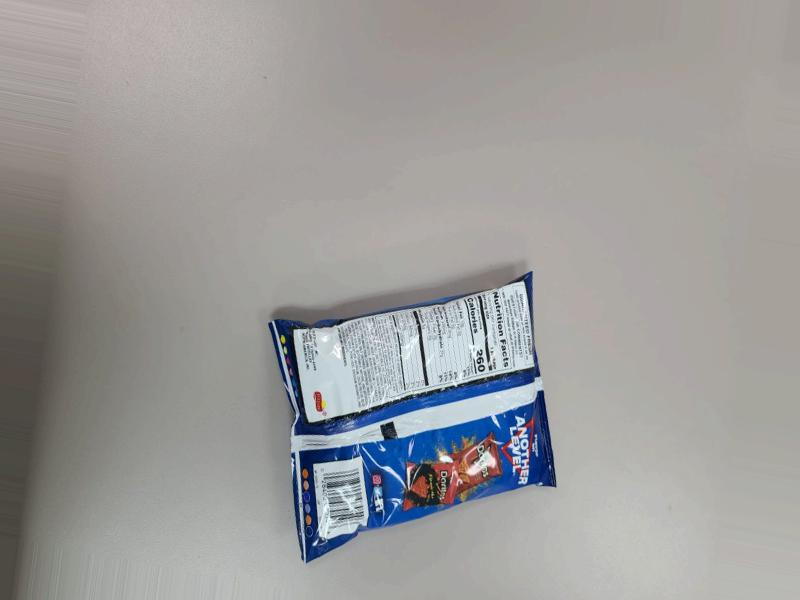doritos: (262, 271, 547, 555)
